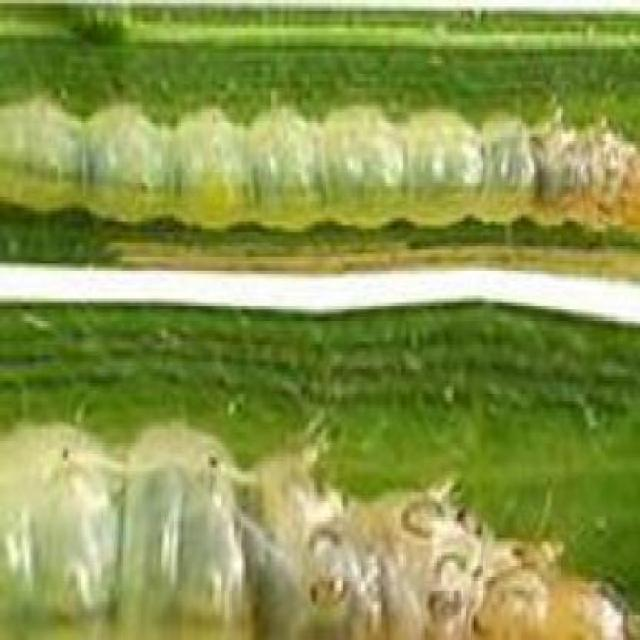leaf-folder: (14, 70, 640, 304), (37, 386, 577, 640)
